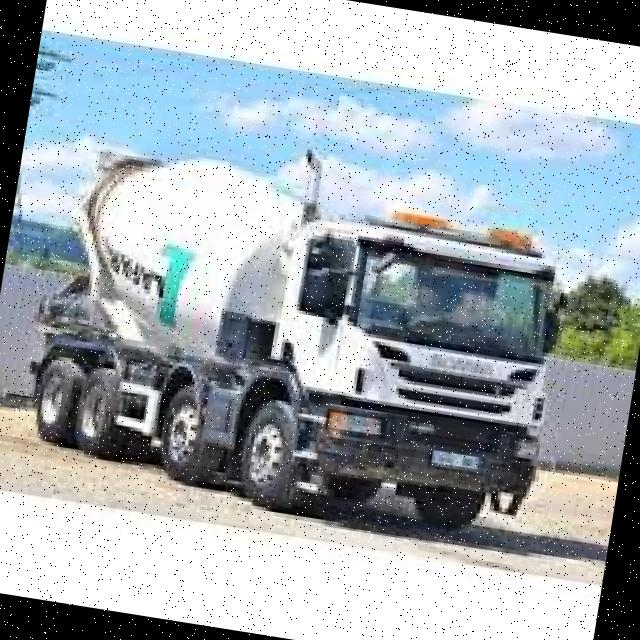Mixer Truck: (8, 134, 582, 551)
